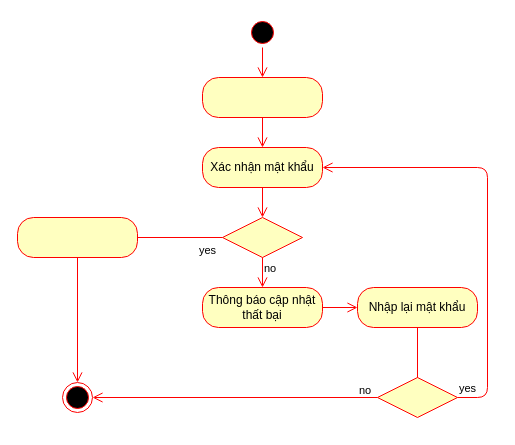
This 515x445 diagram has some shape labels left out. The centre of each missing label's shape, as x and y in pixels:
"Nhận thông tin" belongs at point 262,97.
"Thông báo cập nhật thành công" belongs at point 77,237.
